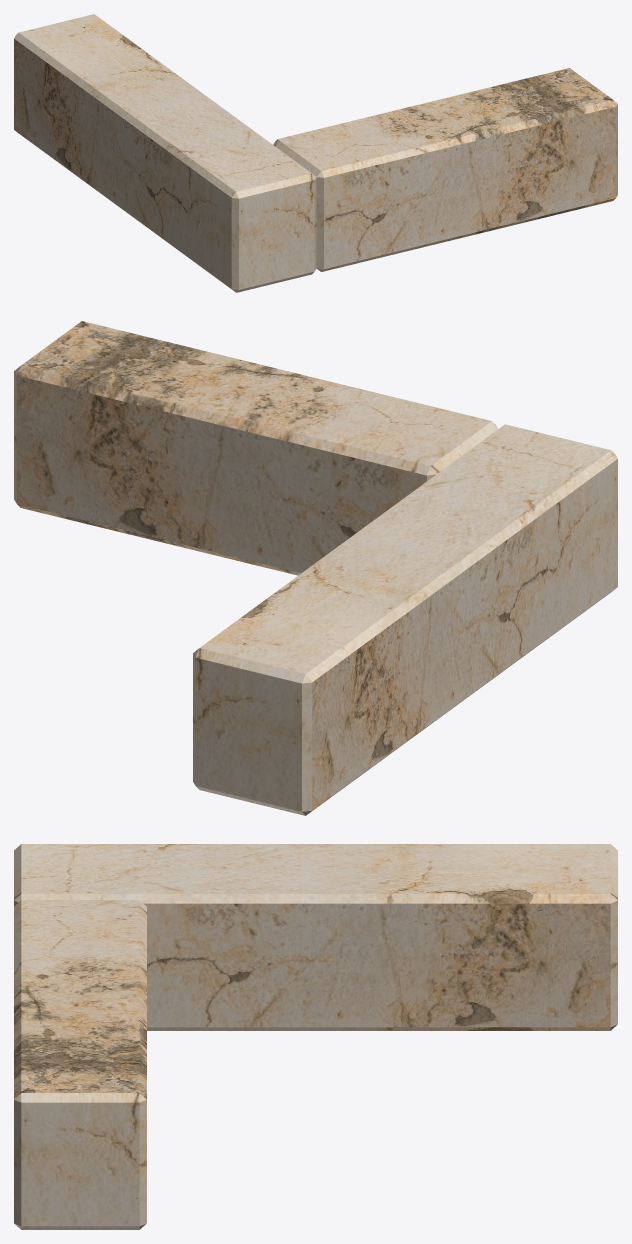
The model's file is curb_corner.glb.
3 renders of one model, top to bottom at view 1: azimuth 30°, elevation 25°; view 2: azimuth 150°, elevation 25°; view 3: azimuth 270°, elevation 25°, orthographic. The views are drawn at different scales.
Parts seen in each view (by area): view 1: curb_corner__VVK_concrete_CC0; view 2: curb_corner__VVK_concrete_CC0; view 3: curb_corner__VVK_concrete_CC0.
Boxes of the visible parts, x1,y1,x2,y2 form: curb_corner__VVK_concrete_CC0: [14, 14, 617, 292]; curb_corner__VVK_concrete_CC0: [14, 321, 617, 815]; curb_corner__VVK_concrete_CC0: [14, 844, 617, 1229].
Size of the model in its own units: 1 by 0.25 by 1.
1 material, 1 textured.
